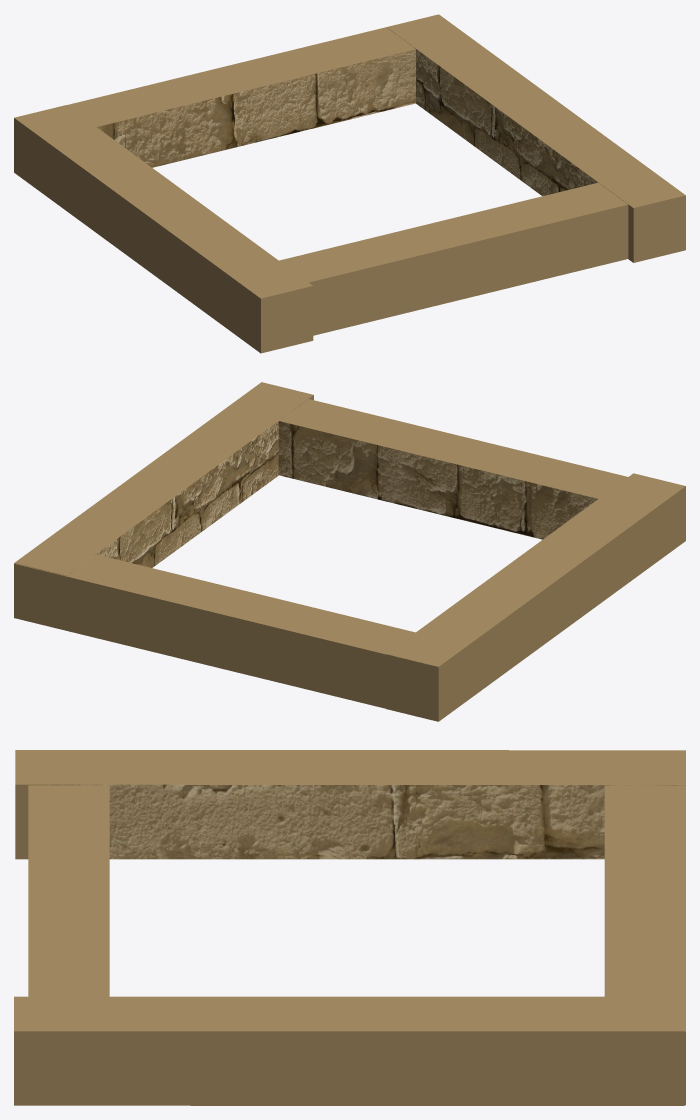
Rendered from wallls.obj.
The picture shows the model from 3 angles, top to bottom: view 1: azimuth 30°, elevation 25°; view 2: azimuth 150°, elevation 25°; view 3: azimuth 270°, elevation 25°; orthographic projection. The views are drawn at different scales.
Parts seen in each view (by area): view 1: Cube.001; view 2: Cube.001; view 3: Cube.001.
Boxes of the visible parts, x1,y1,x2,y2 form: Cube.001: (14,14,685,353); Cube.001: (14,382,685,721); Cube.001: (14,750,685,1105).
Bounding box in the file's own units: 64.92 × 8.01 × 65.52.
